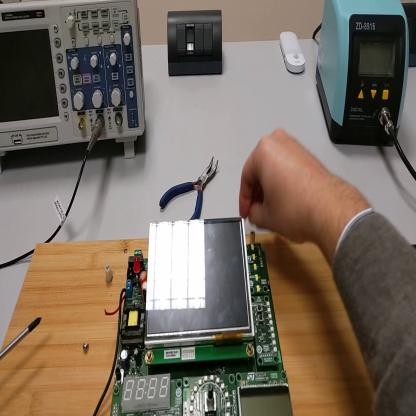hand: (238, 128, 333, 246)
low voltage board: (94, 214, 294, 414)
oscilloscope: (1, 2, 145, 175)
pliers: (161, 156, 220, 221)
screwdriver-: (2, 318, 42, 360)
socket: (402, 5, 416, 68)
welder station: (317, 2, 411, 150)
working area: (1, 231, 369, 416)
